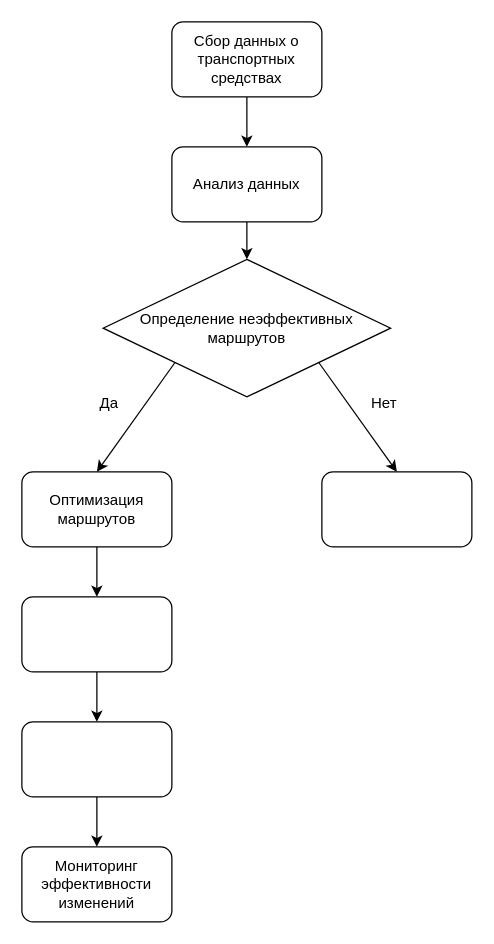
The diagram is 494 pixels wide and 944 high, and some of its shapes have lost their labels. Here are the shapes that lost their labels. From the top down, the centre of each, then its label:
At pixel 396 509: "Сбор дополнительных данных".
At pixel 96 634: "Разработка предположений по улучшения".
At pixel 96 759: "Внедрение изменений в управление автопарком".
